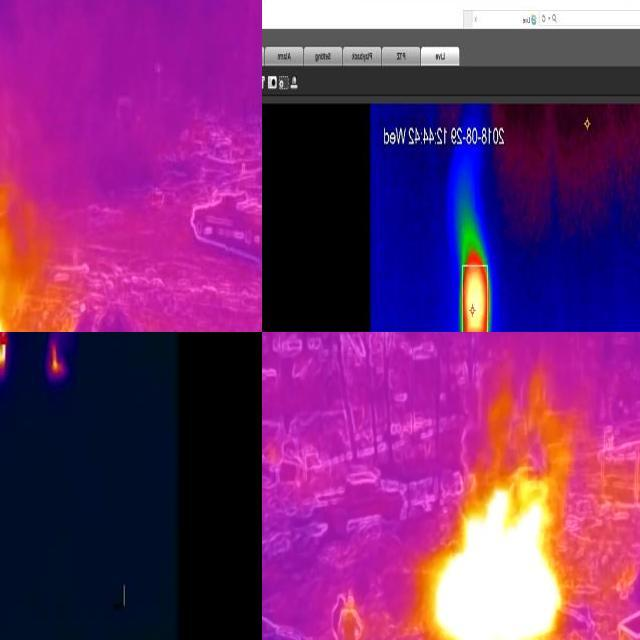fire: (432, 478, 562, 640), (459, 222, 491, 333), (48, 340, 65, 378)
